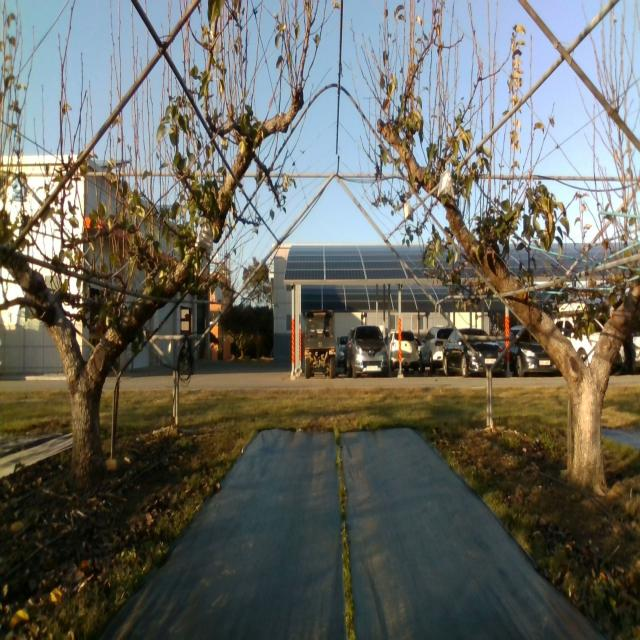pearbags: (438, 166, 455, 200), (196, 222, 214, 252)
